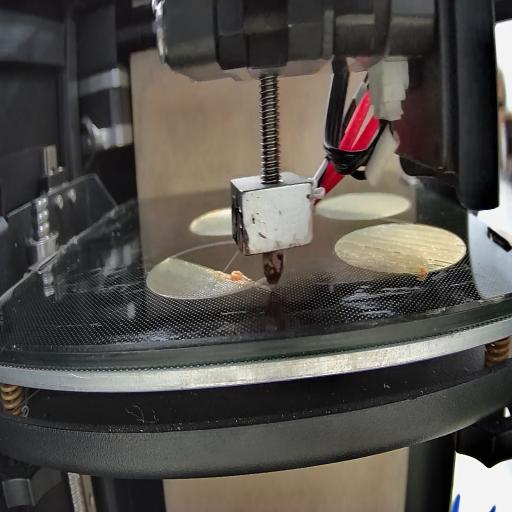under_extrusion: (343, 238, 402, 254), (423, 257, 454, 276), (455, 239, 467, 249)
